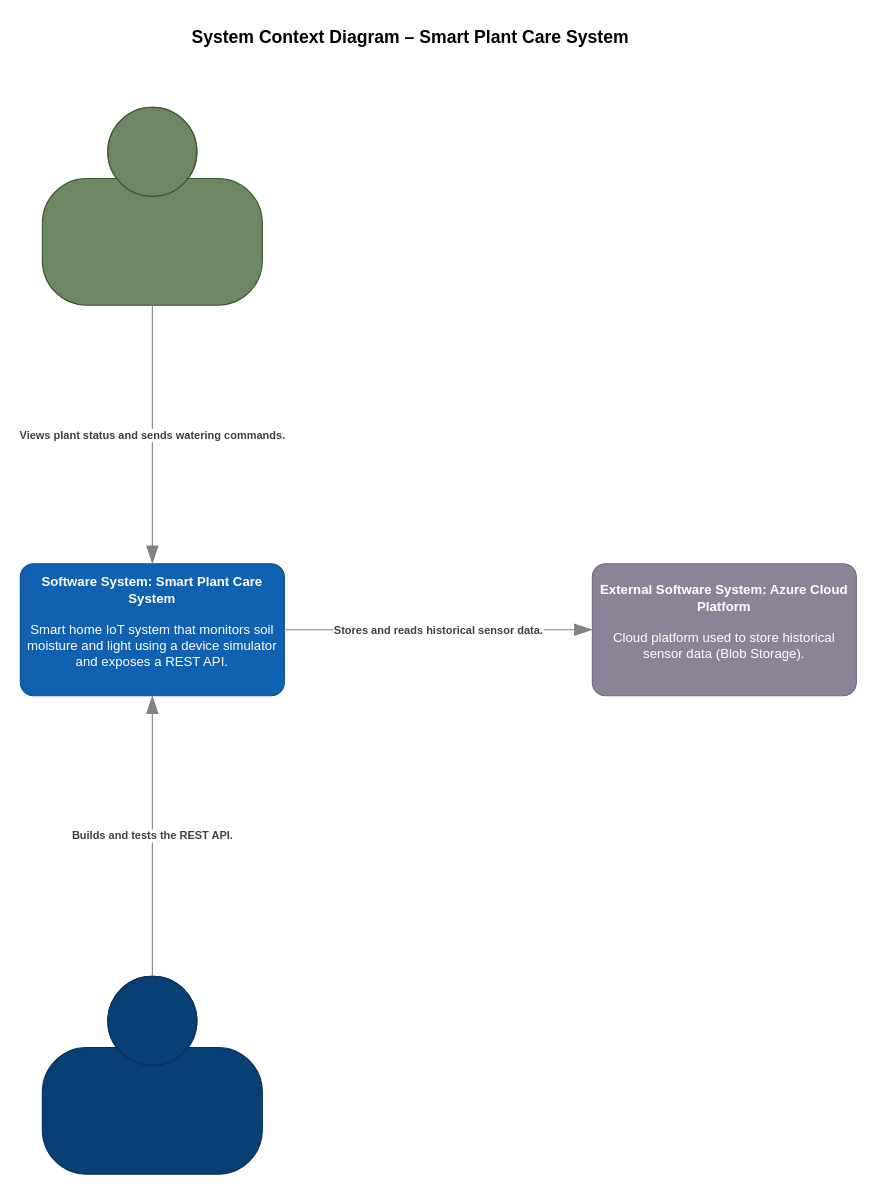
Image size: 876x1194. Some labels were removed from this diagram. The shapes that lost their labels are listed below. From the top down, each one's centre as x and y in pixels, then its label:
(151,205): Home User A home user who views plant status and sends watering commands.
(151,1074): Developer A developer who builds and tests the REST API.
